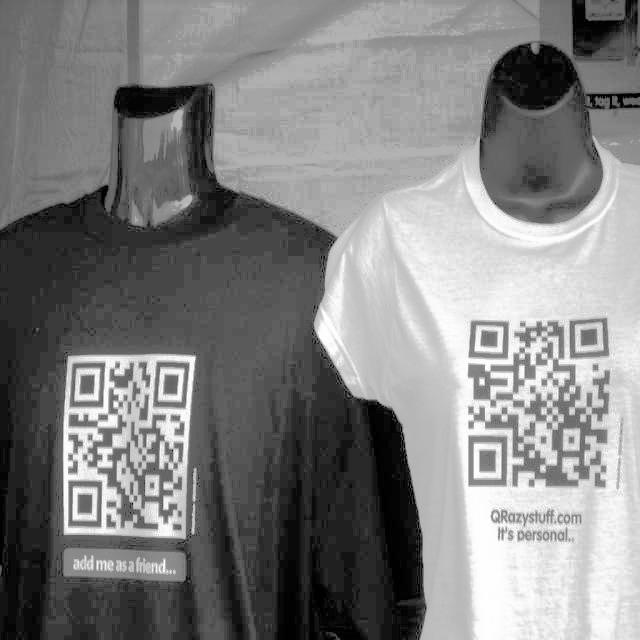qr_code: (469, 317, 610, 488), (69, 361, 190, 531)
